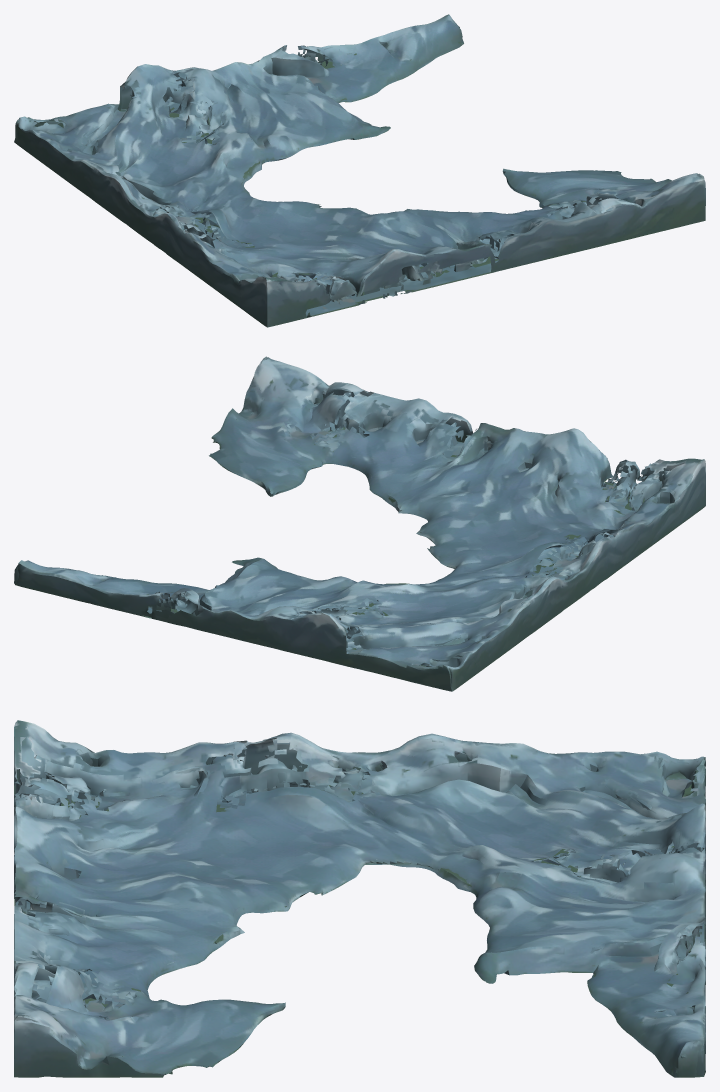
Rendered from meadows_mountain_backdrop_r2.glb.
3 views of the same model, one above another, from view 1: azimuth 30°, elevation 25°; view 2: azimuth 150°, elevation 25°; view 3: azimuth 270°, elevation 25° (orthographic). The views are drawn at different scales.
Parts seen in each view (by area): view 1: Mesh_0; view 2: Mesh_0; view 3: Mesh_0.
Boxes of the visible parts, x1,y1,x2,y2 form: Mesh_0: (14, 14, 705, 327); Mesh_0: (14, 356, 705, 691); Mesh_0: (14, 720, 705, 1077).
Bounding box in the file's own units: 1.9 × 0.1997 × 1.9.
1 material, 1 textured.
